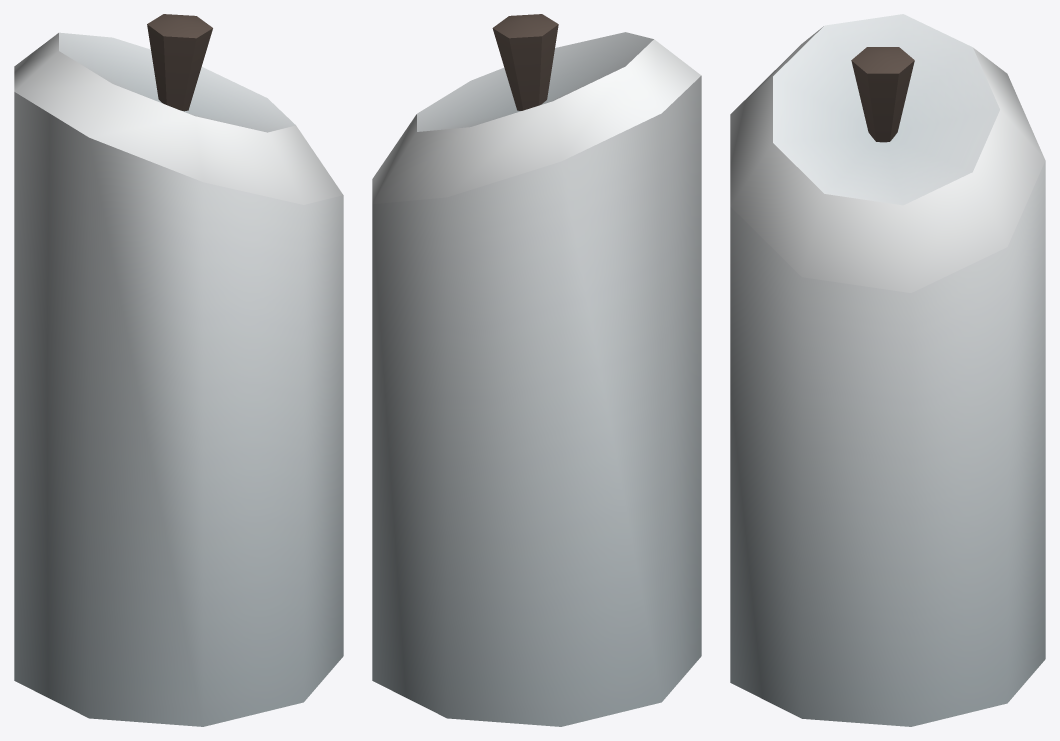
The model's file is cc0-candle-melted-lod0.glb.
3 views of the same model, side by side, from view 1: azimuth 30°, elevation 25°; view 2: azimuth 150°, elevation 25°; view 3: azimuth 270°, elevation 25° (orthographic). The views are drawn at different scales.
Parts seen in each view (by area): view 1: part_0; view 2: part_0; view 3: part_0.
Part boxes in pixels (box(x1,y1,x2,y2)): part_0: box(14, 14, 343, 726); part_0: box(372, 14, 701, 726); part_0: box(730, 14, 1045, 726).
Bounding box in the file's own units: 0.3009 × 0.6314 × 0.2964.
1 material, 1 textured.
